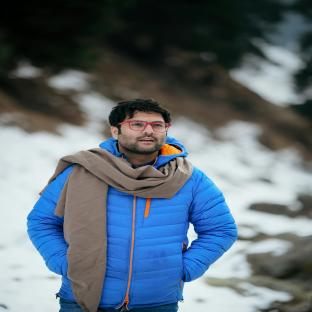Human: (28, 99, 237, 312)
